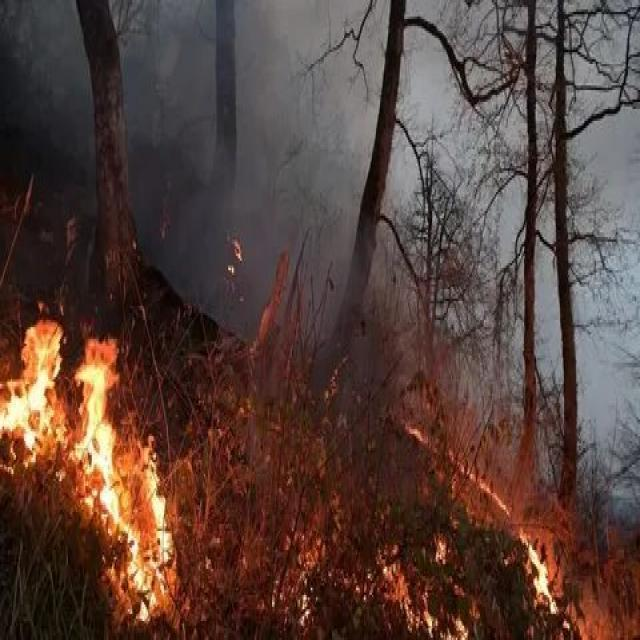Fire: (3, 295, 182, 619)
Smoke: (0, 0, 420, 334)
